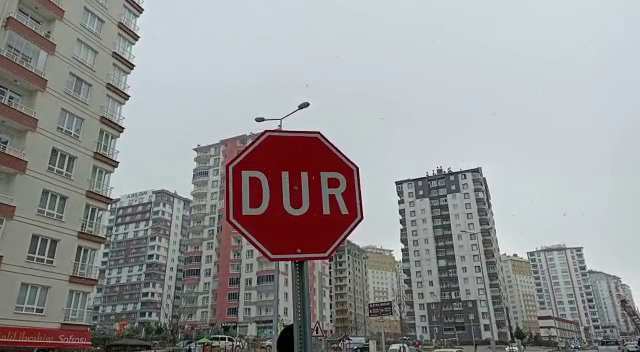stop: (223, 128, 366, 264)
